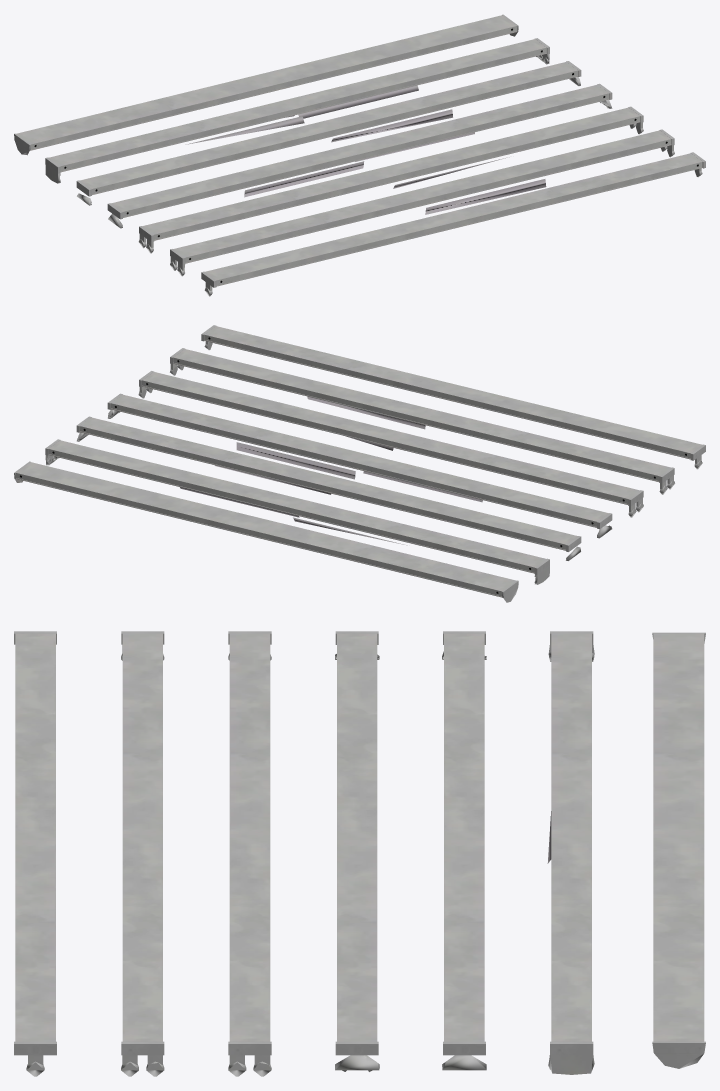
Rendered from mounted_fluorescent_lights.glb.
The picture shows the model from 3 angles, top to bottom: view 1: azimuth 30°, elevation 25°; view 2: azimuth 150°, elevation 25°; view 3: azimuth 270°, elevation 25°; orthographic projection. The views are drawn at different scales.
Parts seen in each view (by area): view 1: mounted_fluorescent_lights_g, mounted_fluorescent_lights_f, mounted_fluorescent_lights_b, mounted_fluorescent_lights_d, mounted_fluorescent_lights_e, mounted_fluorescent_lights_c, mounted_fluorescent_lights_a; view 2: mounted_fluorescent_lights_d, mounted_fluorescent_lights_g, mounted_fluorescent_lights_f, mounted_fluorescent_lights_b, mounted_fluorescent_lights_c, mounted_fluorescent_lights_e, mounted_fluorescent_lights_a; view 3: mounted_fluorescent_lights_g, mounted_fluorescent_lights_c, mounted_fluorescent_lights_f, mounted_fluorescent_lights_b, mounted_fluorescent_lights_d, mounted_fluorescent_lights_e, mounted_fluorescent_lights_a.
Part boxes in pixels (<box>): mounted_fluorescent_lights_g: <box>14,14,518,155</box>; mounted_fluorescent_lights_f: <box>45,38,549,183</box>; mounted_fluorescent_lights_b: <box>170,129,674,276</box>; mounted_fluorescent_lights_d: <box>107,83,612,228</box>; mounted_fluorescent_lights_e: <box>76,61,581,205</box>; mounted_fluorescent_lights_c: <box>138,106,643,253</box>; mounted_fluorescent_lights_a: <box>201,152,705,296</box>; mounted_fluorescent_lights_d: <box>107,393,612,538</box>; mounted_fluorescent_lights_g: <box>14,461,518,602</box>; mounted_fluorescent_lights_f: <box>45,439,549,584</box>; mounted_fluorescent_lights_b: <box>170,348,674,494</box>; mounted_fluorescent_lights_c: <box>138,371,643,517</box>; mounted_fluorescent_lights_e: <box>76,416,581,560</box>; mounted_fluorescent_lights_a: <box>201,325,705,469</box>; mounted_fluorescent_lights_g: <box>652,632,705,1068</box>; mounted_fluorescent_lights_c: <box>228,631,271,1076</box>; mounted_fluorescent_lights_f: <box>547,631,594,1074</box>; mounted_fluorescent_lights_b: <box>121,631,164,1076</box>; mounted_fluorescent_lights_d: <box>335,631,379,1071</box>; mounted_fluorescent_lights_e: <box>442,631,486,1070</box>; mounted_fluorescent_lights_a: <box>14,631,56,1076</box>.
Size of the model in its own units: 0.9122 by 0.0352 by 0.6454.
2 materials, 2 textured.
